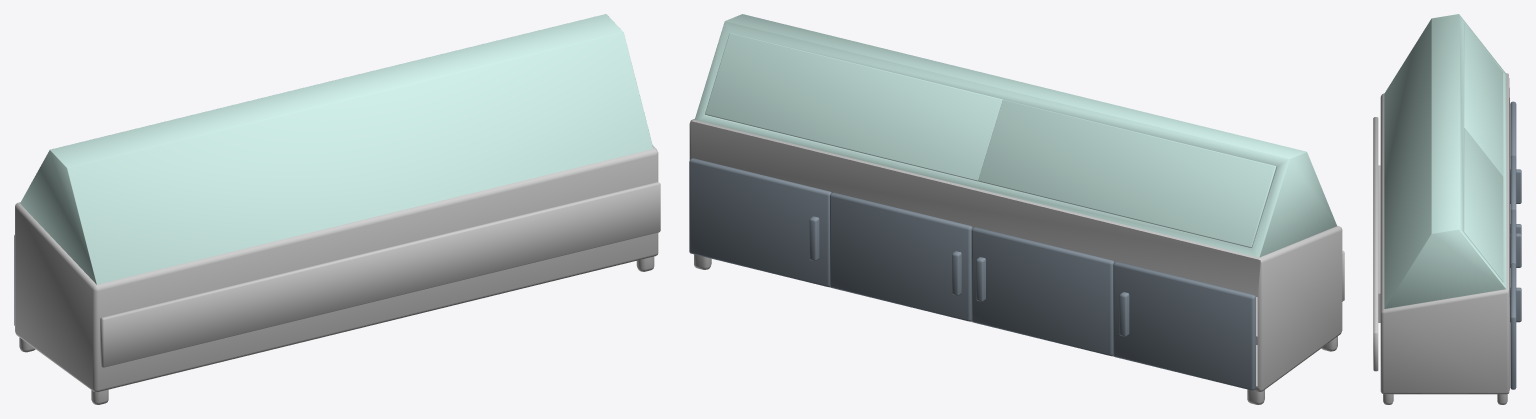
Rendered from Restaurant-Showcase.fbx.
3 views of the same model, side by side, from view 1: azimuth 30°, elevation 25°; view 2: azimuth 150°, elevation 25°; view 3: azimuth 270°, elevation 25° (orthographic). The views are drawn at different scales.
Parts seen in each view (by area): view 1: Restaurant Showcase-Glass, Restaurant-Showcase; view 2: Restaurant-Showcase, Restaurant Showcase-Cover-1, Restaurant Showcase-Cover-2, Restaurant Showcase-Glass, Restaurant-Showcase-Door-4, Restaurant-Showcase-Door-3, Restaurant-Showcase-Door-2, Restaurant-Showcase-Door-1; view 3: Restaurant Showcase-Glass, Restaurant-Showcase, Restaurant Showcase-Cover-2, Restaurant Showcase-Cover-1, Restaurant-Showcase-Door-1, Restaurant-Showcase-Door-4, Restaurant-Showcase-Door-2, Restaurant-Showcase-Door-3.
Boxes of the visible parts, bbox=[...] form: Restaurant Showcase-Glass: bbox=[20, 14, 653, 284]; Restaurant-Showcase: bbox=[15, 145, 660, 404]; Restaurant-Showcase: bbox=[689, 115, 1344, 404]; Restaurant Showcase-Cover-1: bbox=[978, 99, 1276, 247]; Restaurant Showcase-Cover-2: bbox=[705, 33, 1002, 181]; Restaurant Showcase-Glass: bbox=[695, 14, 1336, 257]; Restaurant-Showcase-Door-4: bbox=[1113, 261, 1255, 390]; Restaurant-Showcase-Door-3: bbox=[971, 227, 1114, 355]; Restaurant-Showcase-Door-2: bbox=[830, 192, 972, 321]; Restaurant-Showcase-Door-1: bbox=[689, 158, 831, 286]; Restaurant Showcase-Glass: bbox=[1384, 14, 1506, 308]; Restaurant-Showcase: bbox=[1373, 73, 1509, 404]; Restaurant Showcase-Cover-2: bbox=[1464, 128, 1503, 281]; Restaurant Showcase-Cover-1: bbox=[1464, 23, 1503, 176]; Restaurant-Showcase-Door-1: bbox=[1510, 263, 1521, 389]; Restaurant-Showcase-Door-4: bbox=[1510, 101, 1521, 203]; Restaurant-Showcase-Door-2: bbox=[1510, 210, 1521, 267]; Restaurant-Showcase-Door-3: bbox=[1510, 155, 1521, 234].
Bounding box in the file's own units: 4 × 1.51 × 1.15.
